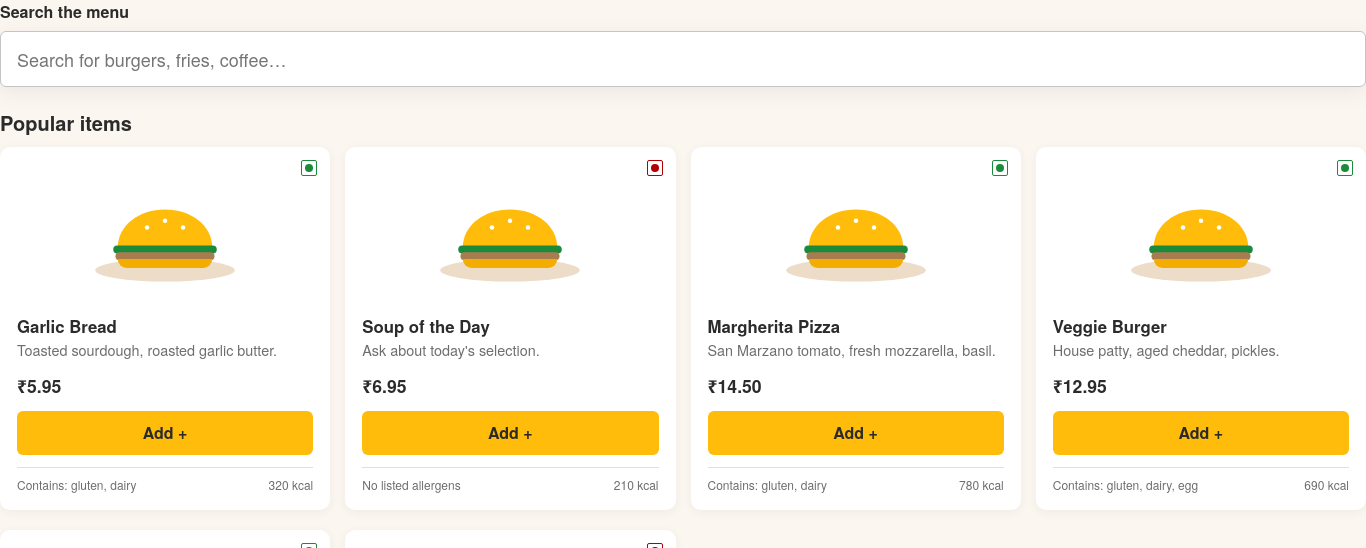
SearchView › filters the menu by name or description as you type, ignoring case
Type "TIRAM" into the search field labelled "Search the menu" at {"x": 683, "y": 59}, box [0,31,1365,87]
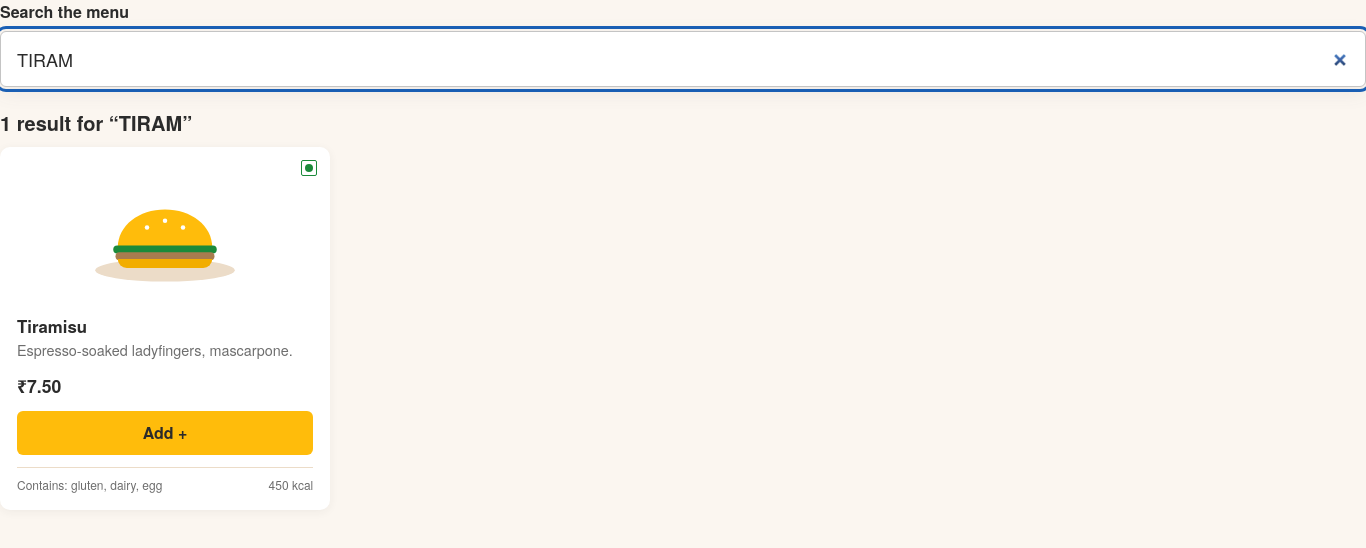
Expected: the heading "Tiramisu" is shown, [17,314,87,338]
Now the heading "1 result for “TIRAM”" is shown, box [0,108,192,137]
